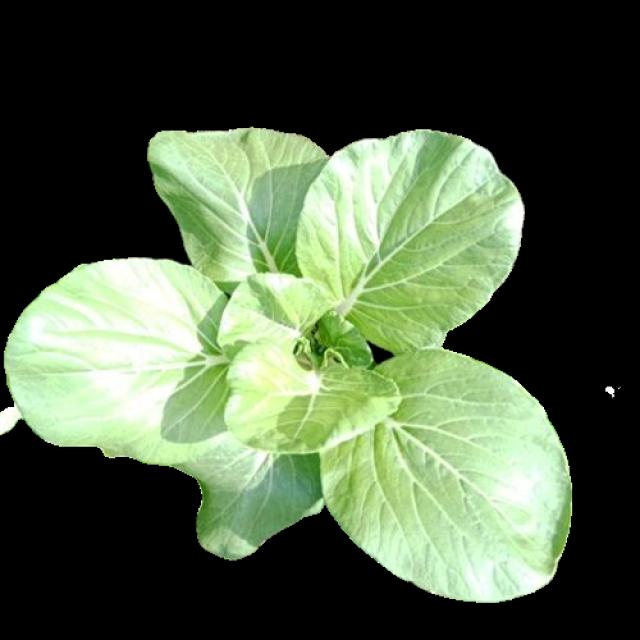healthy: (13, 156, 586, 612)
mature: (9, 134, 582, 590)
